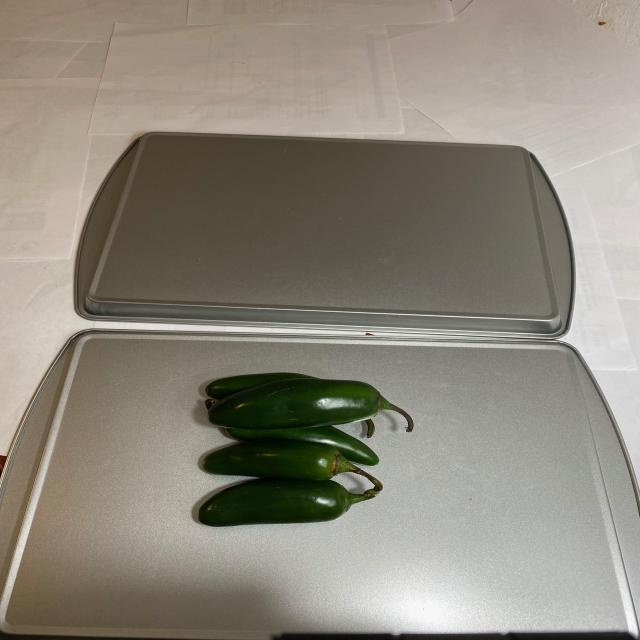chilli: (177, 363, 422, 544)
